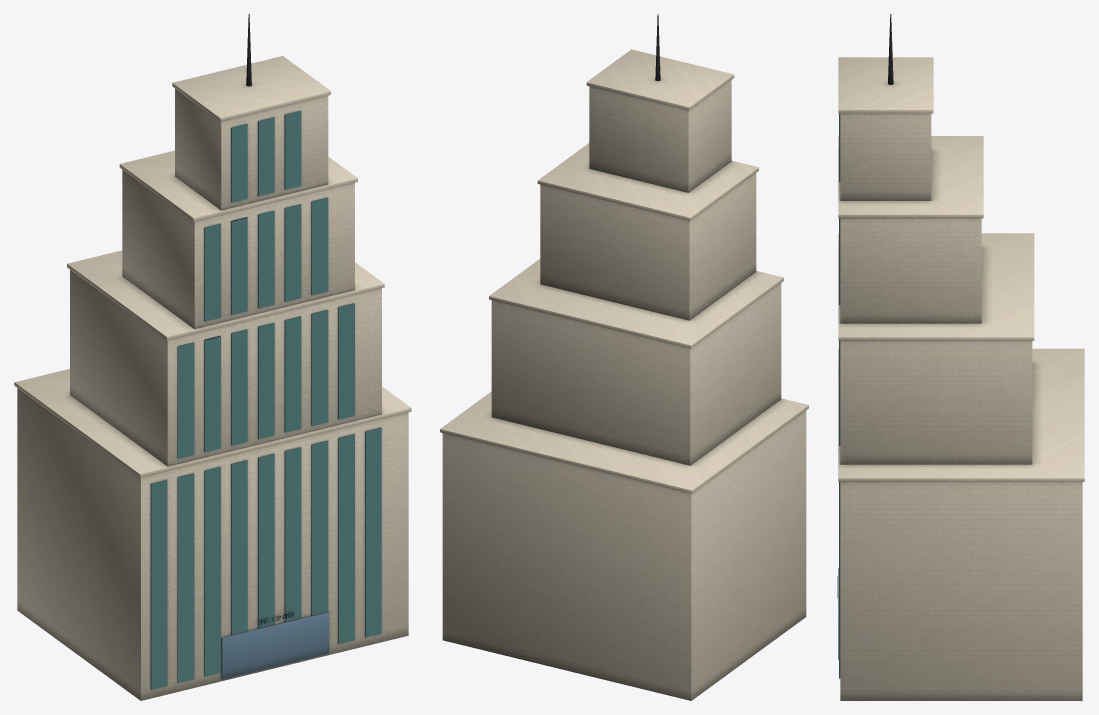
File: epic_center.glb
3 views of the same model, side by side, from view 1: azimuth 30°, elevation 25°; view 2: azimuth 150°, elevation 25°; view 3: azimuth 270°, elevation 25° (orthographic). The views are drawn at different scales.
Visible parts, largest first — view 1: epic_center; view 2: epic_center; view 3: epic_center.
Part boxes in pixels (x1,y1,x2,y2): epic_center: (14, 14, 411, 700); epic_center: (440, 14, 808, 700); epic_center: (837, 14, 1084, 700).
Bounding box in the file's own units: 30.4 × 68 × 24.5.
1 material, 1 textured.
